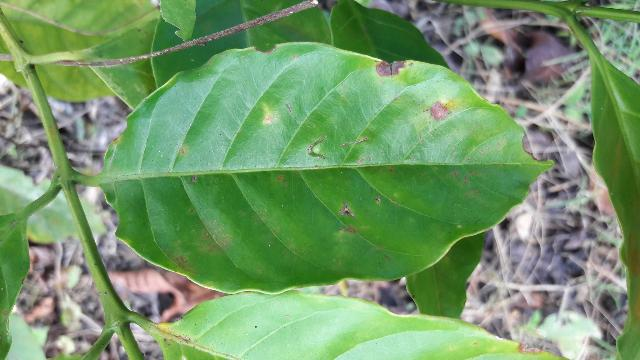rust_level_2: (94, 47, 555, 290)
